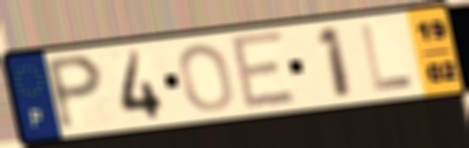1: (315, 23, 358, 101)
4: (117, 47, 167, 122)
E: (227, 28, 301, 114)
L: (357, 22, 417, 95)
O: (176, 41, 236, 114)
P: (43, 52, 107, 135)
